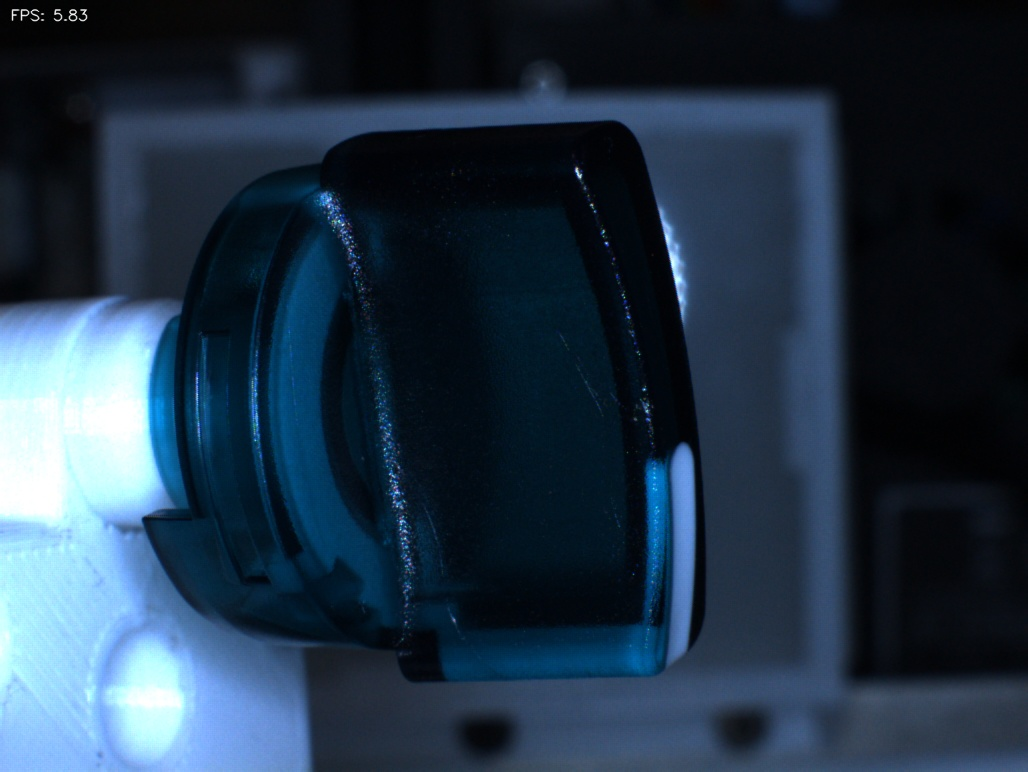Givrage: (540, 311, 628, 433), (417, 459, 468, 660), (579, 472, 636, 555)
